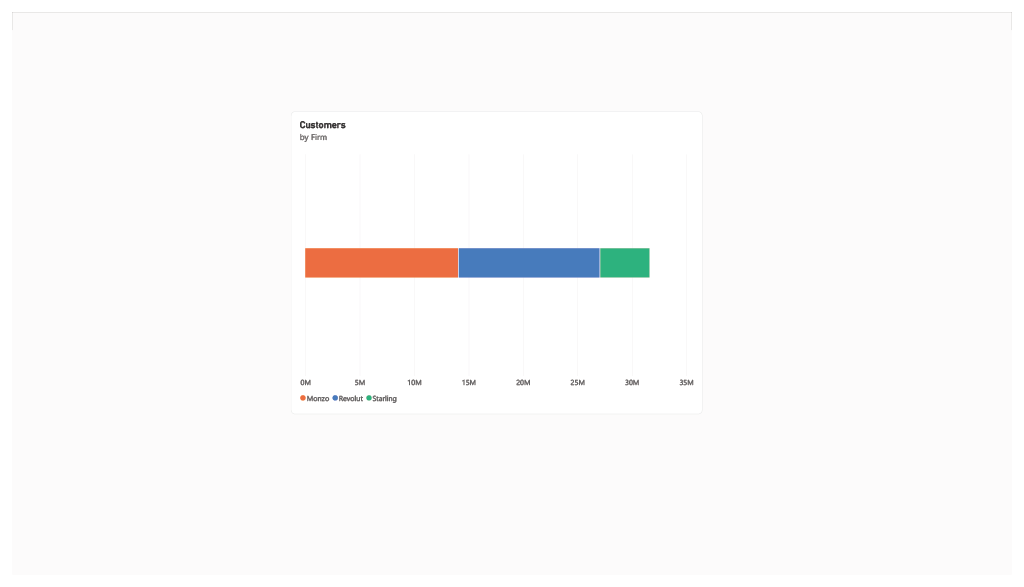

What the dashboard file says about the page in this screenshot:
{"tool":"powerbi","page":{"name":"Page 1","canvas":[1920,1080],"ordinal":3},"visuals":[{"type":"barChart","fields":{"Y":["Measure.Customers"],"Series":["Customers.Firm"]},"box":[535.4,189.7,790.8,582.1],"z":0}]}

Visuals, with their boxes in screenshot pixels (x1, y1, x2, y2), scaled from the page's 1920x1080 canvas onto the 1024x587 screenshot:
barChart - Measure.Customers x Customers.Firm: {"left": 286, "top": 103, "right": 707, "bottom": 419}
